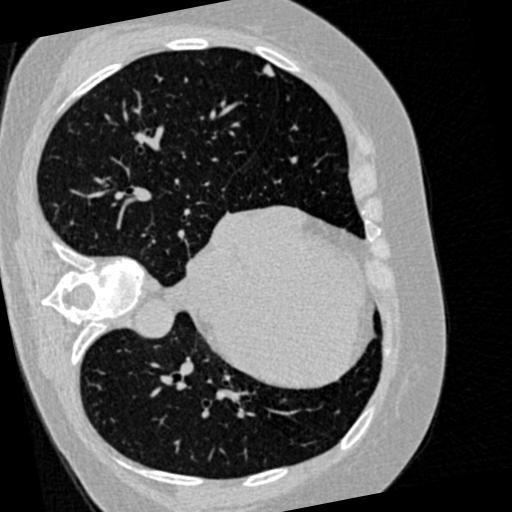nodule: (260, 60, 280, 80)
